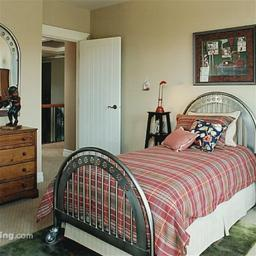Cama: (31, 104, 250, 234)
Puerta: (80, 42, 119, 148)
